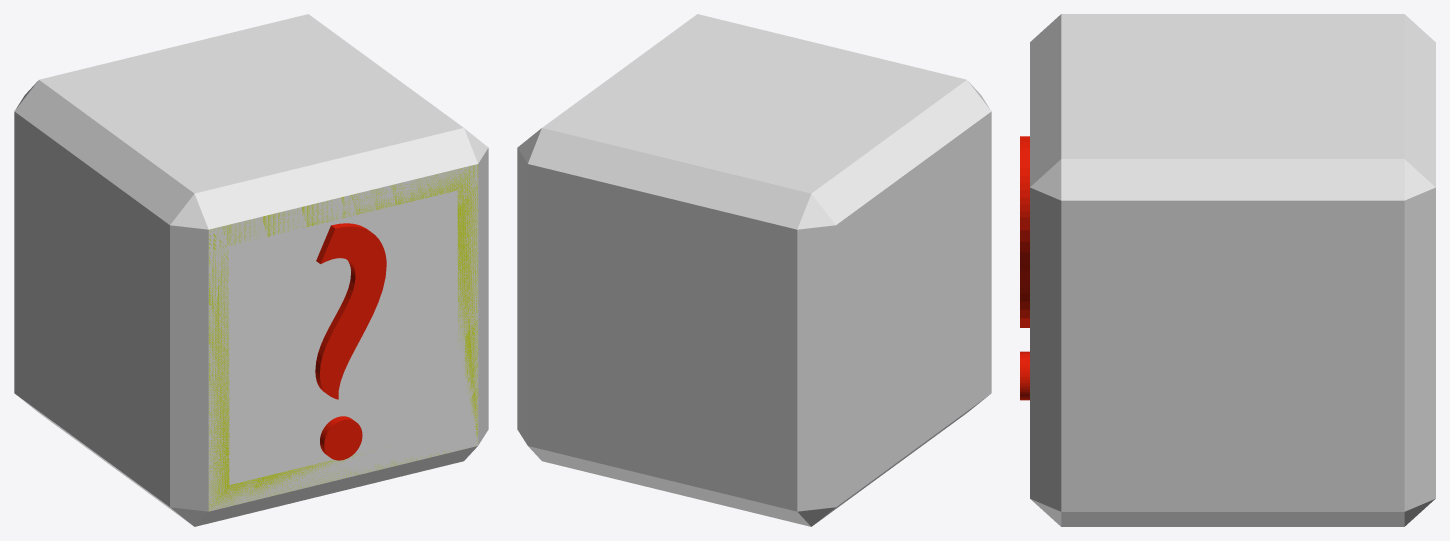
The model's file is brick.fbx.
The picture shows the model from 3 angles, left to right: view 1: azimuth 30°, elevation 25°; view 2: azimuth 150°, elevation 25°; view 3: azimuth 270°, elevation 25°; orthographic projection. The views are drawn at different scales.
Visible parts, largest first — view 1: birck, random brick, Text; view 2: birck; view 3: birck, Text.
Boxes of the visible parts, x1=… form: birck: x1=14, y1=14, x2=488, y2=526; random brick: x1=208, y1=164, x2=478, y2=510; Text: x1=315, y1=223, x2=386, y2=460; birck: x1=517, y1=14, x2=991, y2=526; birck: x1=1030, y1=14, x2=1435, y2=526; Text: x1=1020, y1=136, x2=1029, y2=400.
Size of the model in its own units: 100 by 100 by 102.
